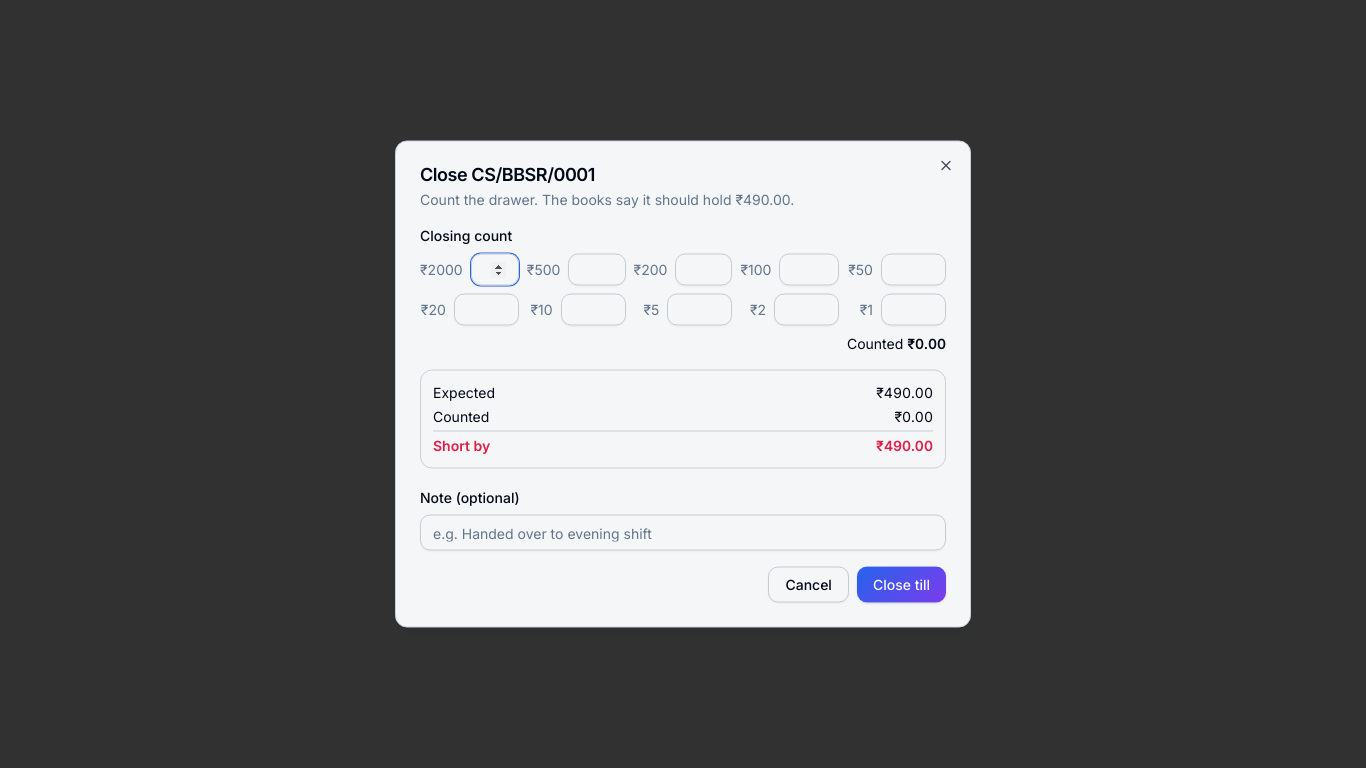
CloseTillDialog › works out the shortfall against what the books expect
The width and height of the screenshot is (1366, 768).
In the number field named "Number of 200 rupee notes": (704, 270) top-left (675, 254), bottom-right (732, 286), type "2"
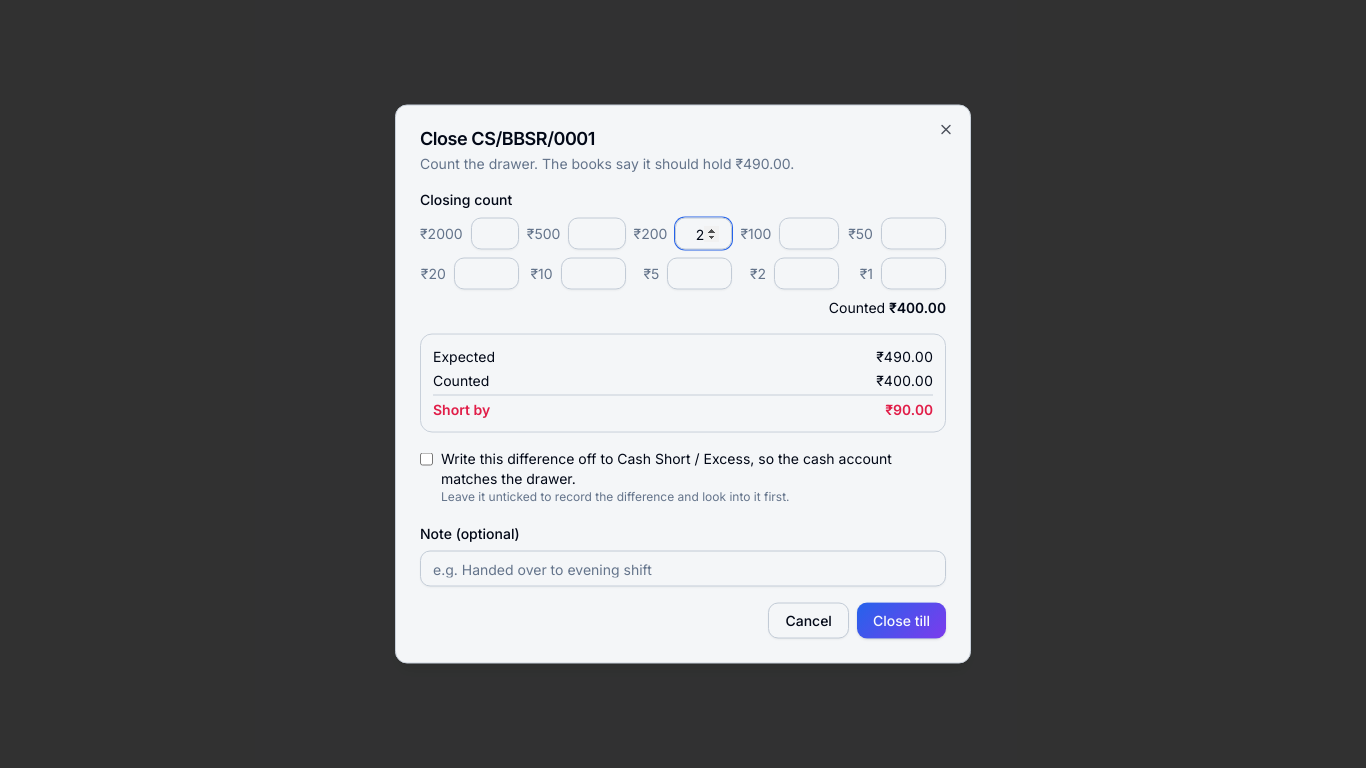
In the number field named "Number of 50 rupee notes": (913, 234) top-left (881, 218), bottom-right (946, 250), type "1"
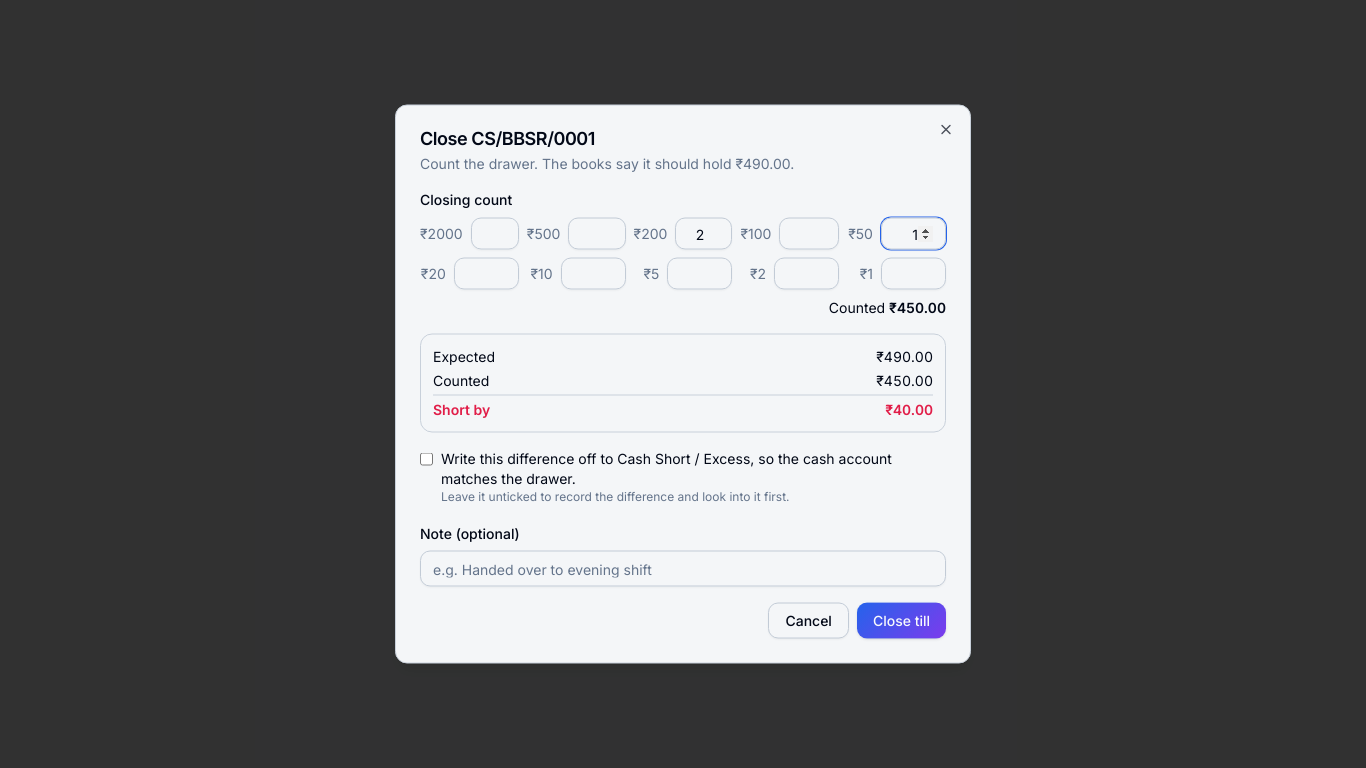
In the number field named "Number of 20 rupee notes": (486, 274) top-left (454, 258), bottom-right (519, 290), type "1"
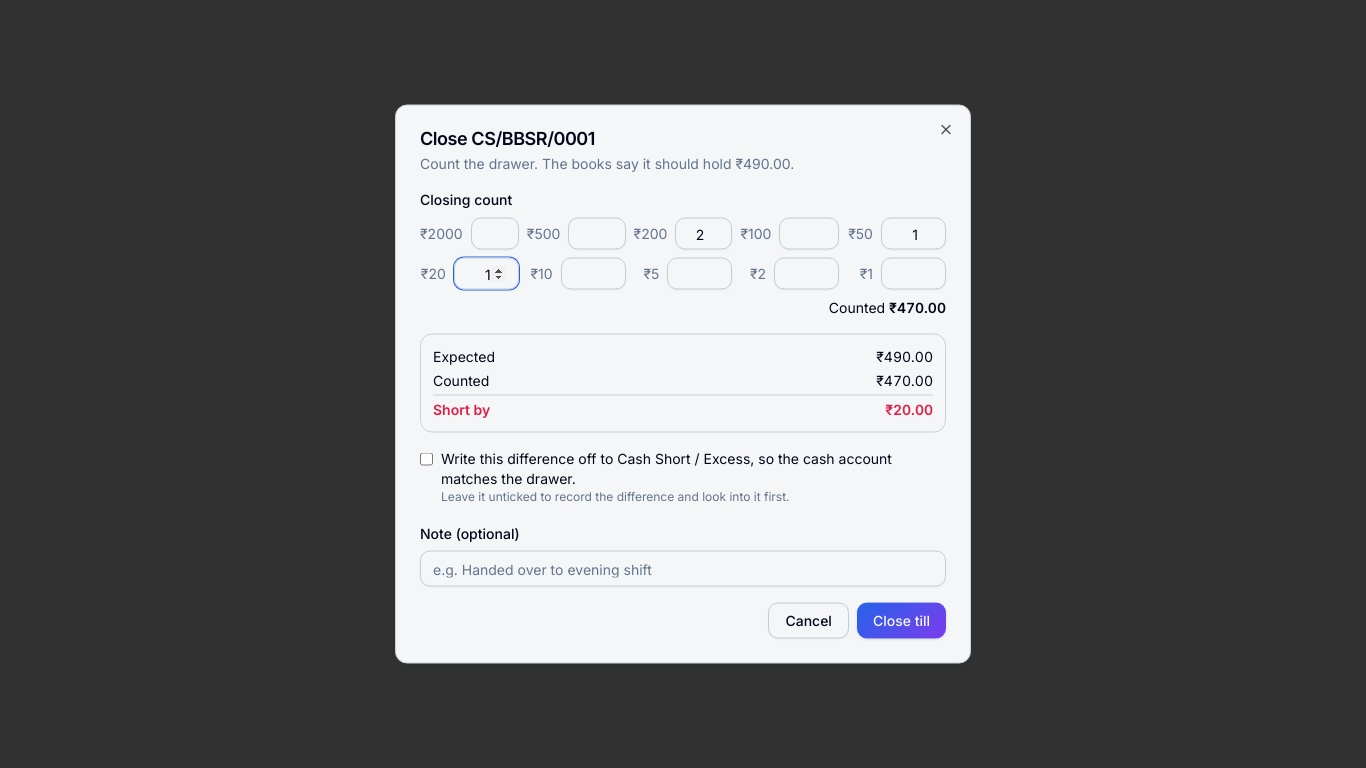
In the number field named "Number of 10 rupee notes": (593, 274) top-left (560, 258), bottom-right (626, 290), type "1"
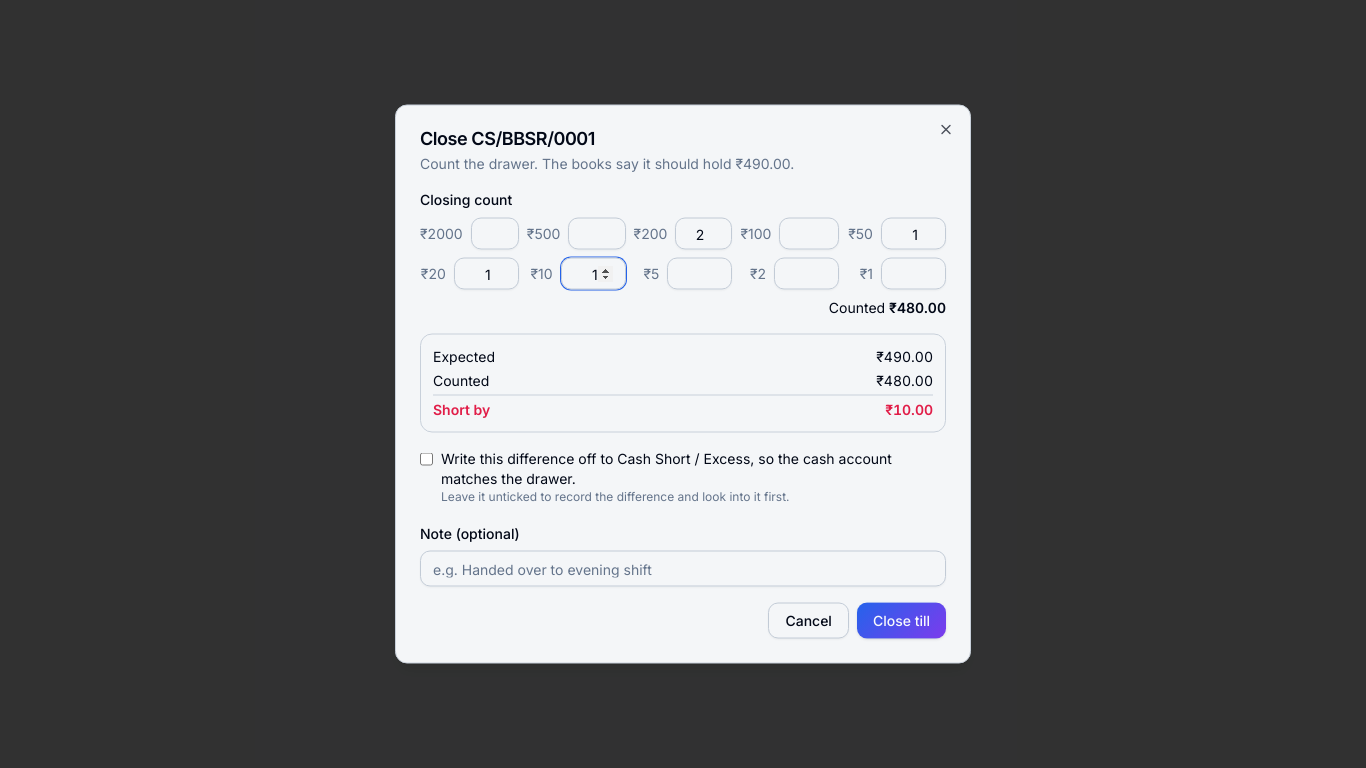
Expected: the text "Short by" is shown, top-left (433, 400), bottom-right (490, 420)
Now the text "₹10.00" is shown, box top-left (885, 400), bottom-right (933, 420)
